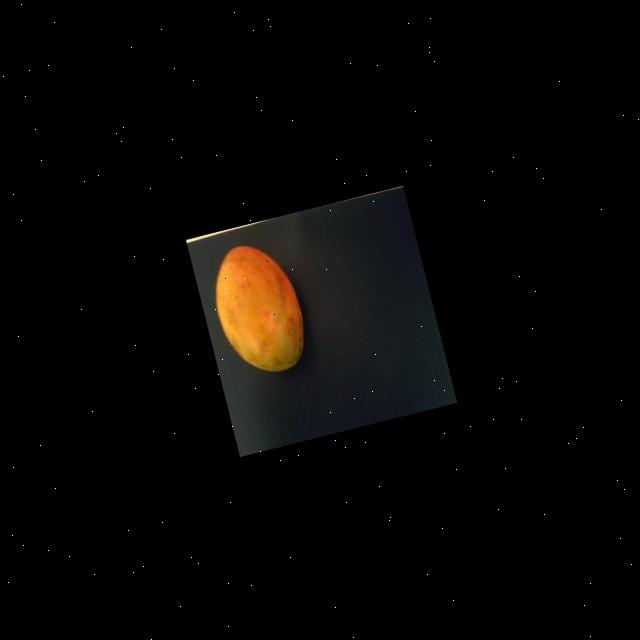Mango: (201, 232, 314, 382)
